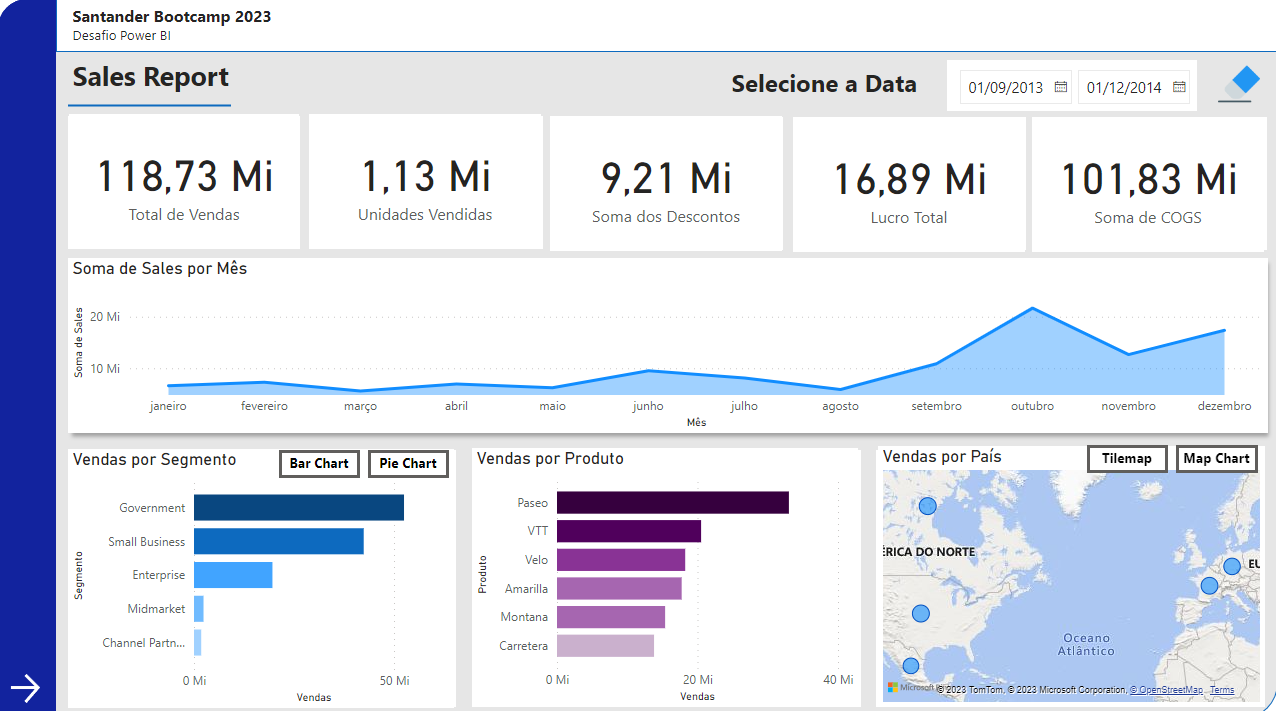

Layout of this report page (visuals, bound fields, positions):
{"tool":"powerbi","page":{"name":"Página 1","canvas":[1280,720],"ordinal":0},"visuals":[{"type":"shape","box":[0,0,1280,720.2],"z":0},{"type":"slicer","fields":{"Values":["financials.Date"]},"box":[948.3,61.3,250,50.6],"z":0,"group":"g3"},{"type":"shape","box":[70,116.6,232.5,133.2],"z":0,"group":"g1"},{"type":"shape","box":[70,450.9,387.7,257.6],"z":0,"group":"g2"},{"type":"shape","box":[0,0,58.3,720.2],"z":1000},{"type":"image","box":[1214.9,58.3,51.5,53.5],"z":1000,"group":"g3"},{"type":"shape","box":[312.5,116.6,232.5,133.2],"z":1000,"group":"g1"},{"type":"shape","box":[475.3,450.9,387.7,257.6],"z":1000,"group":"g2"},{"type":"shape","box":[57.5,0,1221.4,53],"z":2000},{"type":"textbox","box":[728.5,62.2,219.8,49.6],"z":2000,"group":"g3"},{"type":"shape","box":[553,117.9,232.5,133.2],"z":2000,"group":"g1"},{"type":"shape","box":[878.3,450.9,387.7,257.6],"z":2000,"group":"g2"},{"type":"clusteredBarChart","fields":{"Y":["Sum(financials. Sales)"],"Category":["financials.Product"]},"box":[474.3,449,385.8,259.5],"z":2500,"group":"g2"},{"type":"textbox","box":[70,1,384.9,50.5],"z":3000},{"type":"shape","box":[1210,59,60.3,54.5],"z":3000,"group":"g3"},{"type":"shape","box":[795.5,117.9,232.5,133.2],"z":3000,"group":"g1"},{"type":"clusteredBarChart","fields":{"Y":["Sum(financials. Sales)"],"Category":["financials.Segment"]},"box":[70,450,385.8,259.5],"z":3000,"group":"g2"},{"type":"actionButton","box":[369.9,451.1,81.2,28.2],"z":3062,"group":"g2"},{"type":"actionButton","box":[280.8,451.1,81.2,28.2],"z":3125,"group":"g2"},{"type":"columnChart","fields":{"Category":["financials.Country"],"Y":["Sum(financials. Sales)"]},"box":[880.9,446.4,388.7,261.4],"z":3500,"group":"g2"},{"type":"group","id":"g1","title":"Grupo 1","box":[70,115,1199,136],"z":4000},{"type":"shape","box":[1036.5,117.6,232.5,133.2],"z":4000,"group":"g1"},{"type":"actionButton","box":[1178.4,446.4,81.2,28.2],"z":4500,"group":"g2"},{"type":"shape","box":[70,75.8,163.3,61.2],"z":5000},{"type":"card","fields":{"Values":["Sum(financials. Sales)"]},"box":[71,115,230.3,135.1],"z":5000,"group":"g1"},{"type":"actionButton","box":[1089.3,446.4,81.2,28.2],"z":5000,"group":"g2"},{"type":"textbox","box":[70,53.5,175.9,48.6],"z":6000},{"type":"shape","box":[61.2,250.8,1214.9,192.4],"z":7000},{"type":"group","id":"g2","title":"Grupo 2","box":[70,446.4,1199.6,263.4],"z":8000},{"type":"areaChart","fields":{"Category":["financials.Date.Variation.Hierarquia de datas.Mês"],"Y":["Sum(financials. Sales)"]},"box":[70,258.5,1200.3,175.9],"z":9000},{"type":"card","fields":{"Values":["Sum(financials.Units Sold)"]},"box":[311,114.7,232.3,135.1],"z":10000},{"type":"card","fields":{"Values":["Sum(financials.Discounts)"]},"box":[552,116.6,232.3,135.1],"z":11000},{"type":"card","fields":{"Values":["Sum(financials.Profit)"]},"box":[795,117.6,232.3,135.1],"z":12000},{"type":"card","fields":{"Values":["Sum(financials.COGS)"]},"box":[1034.1,117.6,232.3,135.1],"z":13000},{"type":"group","id":"g3","title":"Grupo 3","box":[728.5,58.3,541.8,55.2],"z":14000},{"type":"actionButton","box":[6.8,669.9,42.9,39.5],"z":15000}]}

Visuals, with their boxes on the page's 1280x720 design canvas (x1, y1, x2, y2). These are canvas units, not pixel positions in the 1276x711 screenshot, which may show the page scaled, cropped or inside an application window:
shape: bbox=[0, 0, 1280, 720]
slicer - financials.Date: bbox=[948, 61, 1198, 112]
shape: bbox=[70, 117, 302, 250]
shape: bbox=[70, 451, 458, 708]
shape: bbox=[0, 0, 58, 720]
image: bbox=[1215, 58, 1266, 112]
shape: bbox=[312, 117, 545, 250]
shape: bbox=[475, 451, 863, 708]
shape: bbox=[58, 0, 1279, 53]
textbox: bbox=[728, 62, 948, 112]
shape: bbox=[553, 118, 786, 251]
shape: bbox=[878, 451, 1266, 708]
clusteredBarChart - Sum(financials. Sales) x financials.Product: bbox=[474, 449, 860, 708]
textbox: bbox=[70, 1, 455, 52]
shape: bbox=[1210, 59, 1270, 114]
shape: bbox=[796, 118, 1028, 251]
clusteredBarChart - Sum(financials. Sales) x financials.Segment: bbox=[70, 450, 456, 710]
actionButton: bbox=[370, 451, 451, 479]
actionButton: bbox=[281, 451, 362, 479]
columnChart - financials.Country x Sum(financials. Sales): bbox=[881, 446, 1270, 708]
"Grupo 1" group: bbox=[70, 115, 1269, 251]
shape: bbox=[1036, 118, 1269, 251]
actionButton: bbox=[1178, 446, 1260, 475]
shape: bbox=[70, 76, 233, 137]
card - Sum(financials. Sales): bbox=[71, 115, 301, 250]
actionButton: bbox=[1089, 446, 1170, 475]
textbox: bbox=[70, 54, 246, 102]
shape: bbox=[61, 251, 1276, 443]
"Grupo 2" group: bbox=[70, 446, 1270, 710]
areaChart - financials.Date.Variation.Hierarquia de datas.Mês x Sum(financials. Sales): bbox=[70, 258, 1270, 434]
card - Sum(financials.Units Sold): bbox=[311, 115, 543, 250]
card - Sum(financials.Discounts): bbox=[552, 117, 784, 252]
card - Sum(financials.Profit): bbox=[795, 118, 1027, 253]
card - Sum(financials.COGS): bbox=[1034, 118, 1266, 253]
"Grupo 3" group: bbox=[728, 58, 1270, 114]
actionButton: bbox=[7, 670, 50, 709]
